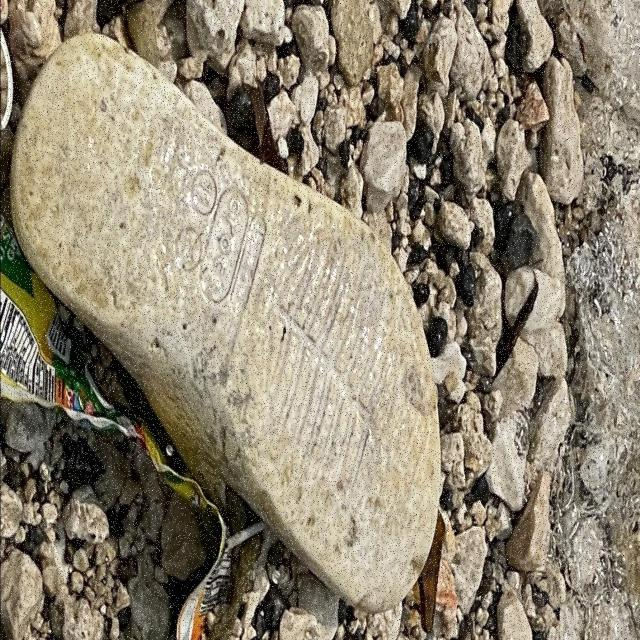rubber_waste: (12, 33, 441, 616)
